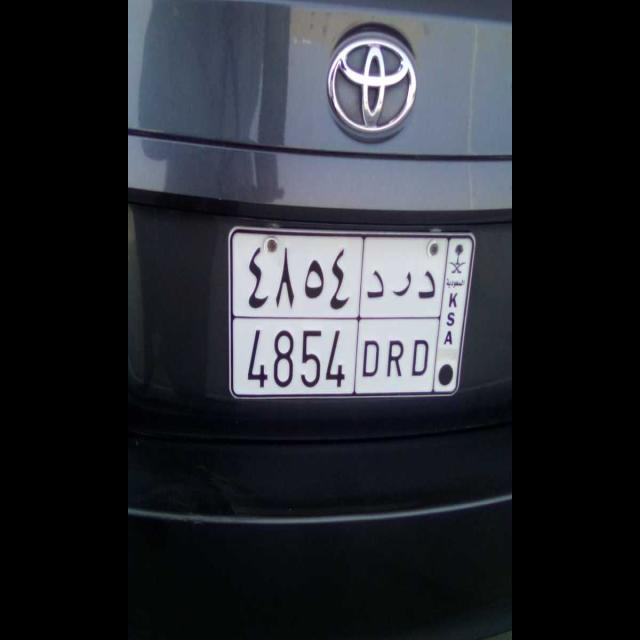license_plate: (230, 310, 440, 397)
